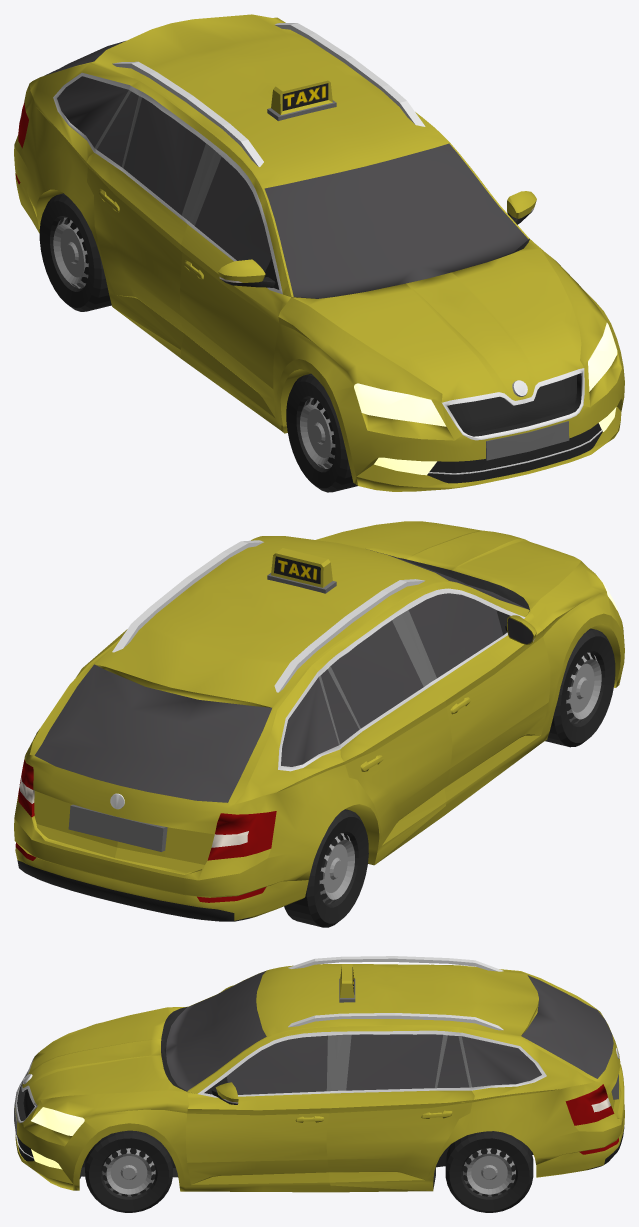
File: skoda_octavia3 1.fbx
3 renders of one model, top to bottom at view 1: azimuth 30°, elevation 25°; view 2: azimuth 150°, elevation 25°; view 3: azimuth 270°, elevation 25°, orthographic. The views are drawn at different scales.
Parts seen in each view (by area): view 1: octavia, 31.wheel_fr.004, 31.wheel_fr, SchoolBus.001; view 2: octavia, 31.wheel_fr.004, 31.wheel_fr, SchoolBus.001; view 3: octavia, 31.wheel_fr.001, 31.wheel_fr.002, SchoolBus.001.
Boxes of the visible parts, x1=… form: octavia: x1=14, y1=14, x2=624, y2=491; 31.wheel_fr.004: x1=39, y1=193, x2=111, y2=311; 31.wheel_fr: x1=286, y1=373, x2=357, y2=492; SchoolBus.001: x1=267, y1=75, x2=336, y2=120; octavia: x1=14, y1=521, x2=624, y2=921; 31.wheel_fr.004: x1=284, y1=809, x2=368, y2=927; 31.wheel_fr: x1=545, y1=628, x2=615, y2=747; SchoolBus.001: x1=267, y1=548, x2=336, y2=593; octavia: x1=14, y1=956, x2=624, y2=1192; 31.wheel_fr.001: x1=445, y1=1131, x2=533, y2=1212; 31.wheel_fr.002: x1=85, y1=1130, x2=172, y2=1212; SchoolBus.001: x1=339, y1=964, x2=355, y2=1002.
Bounding box in the file's own units: 173 × 137 × 394.
